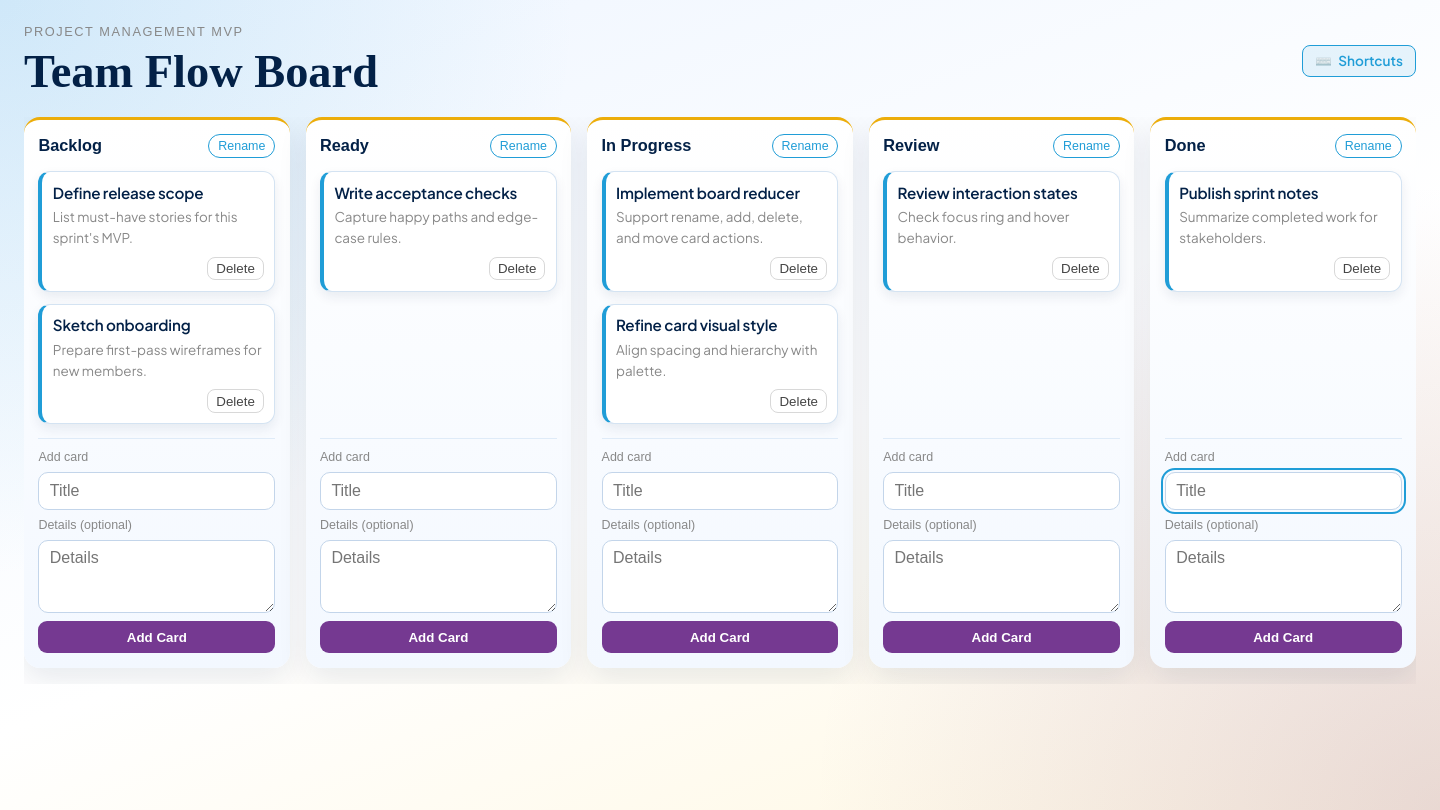
Test: Accessibility Tests › Focus Management › keyboard shortcuts dialog can be opened and closed
Open keyboard shortcuts
Click the button with aria-label "View keyboard shortcuts": [1359, 61] box [1302,45,1416,77]
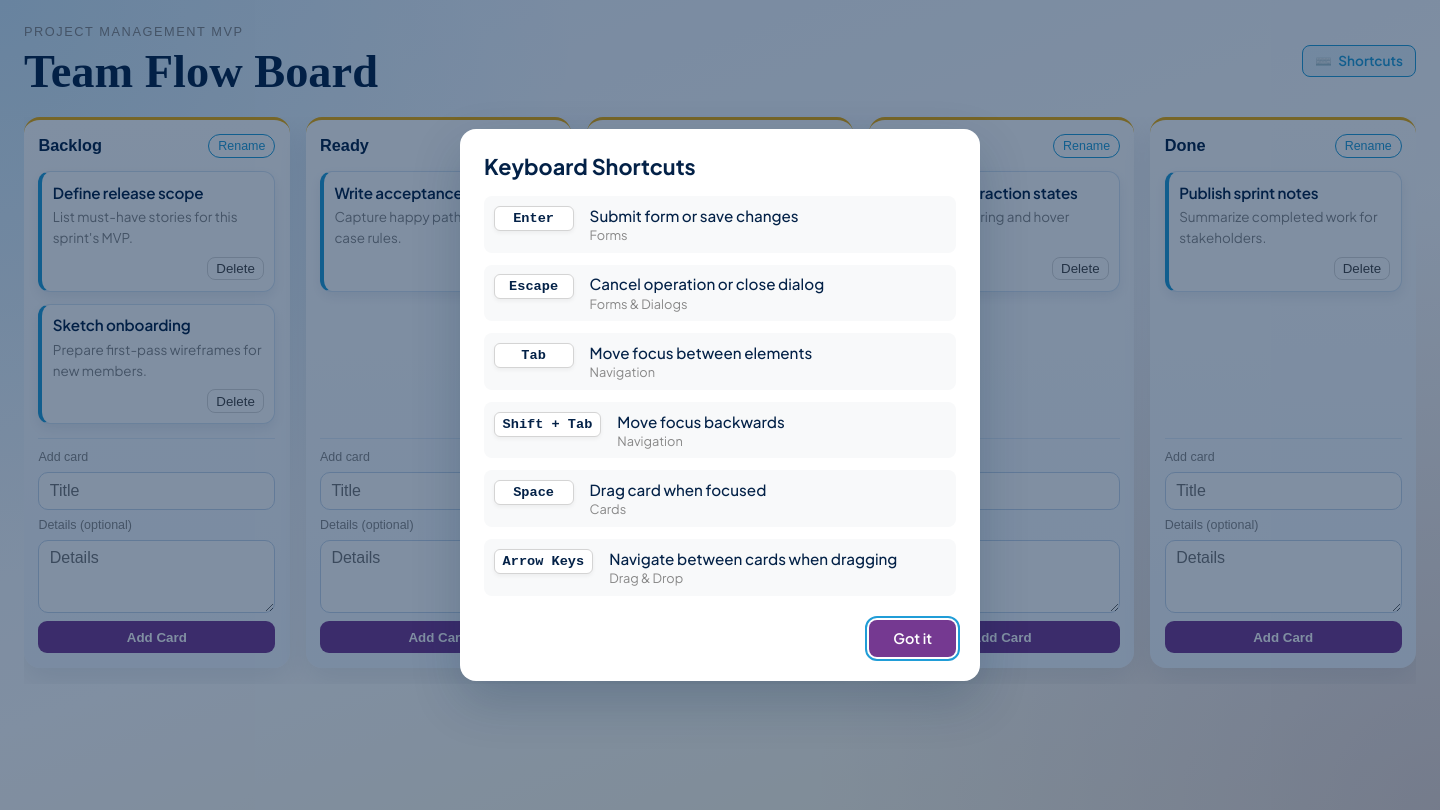
Expected: the heading "Keyboard Shortcuts" is shown, [484,153,696,180]
Close with Escape
Press Escape
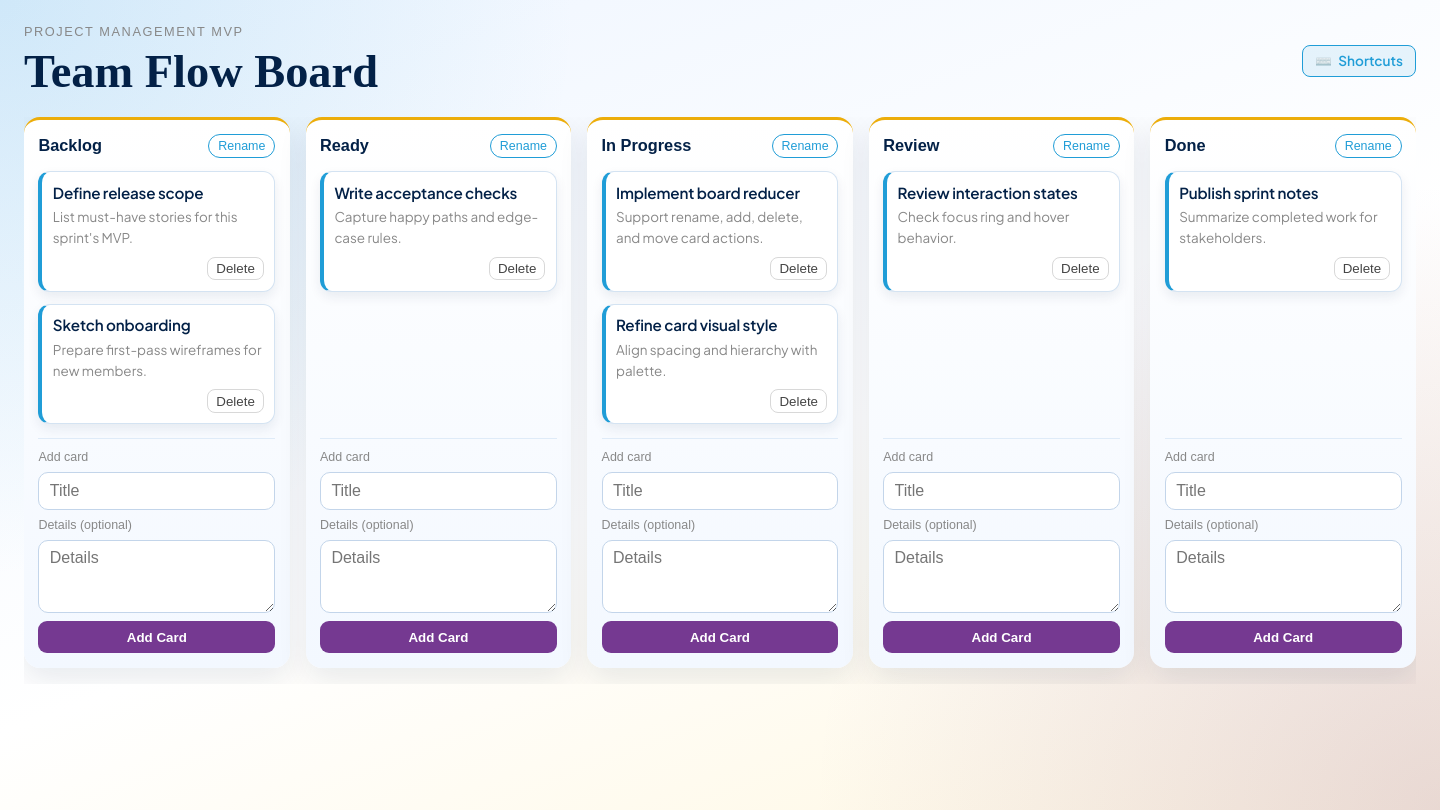
Expected: the heading "Keyboard Shortcuts" is gone
